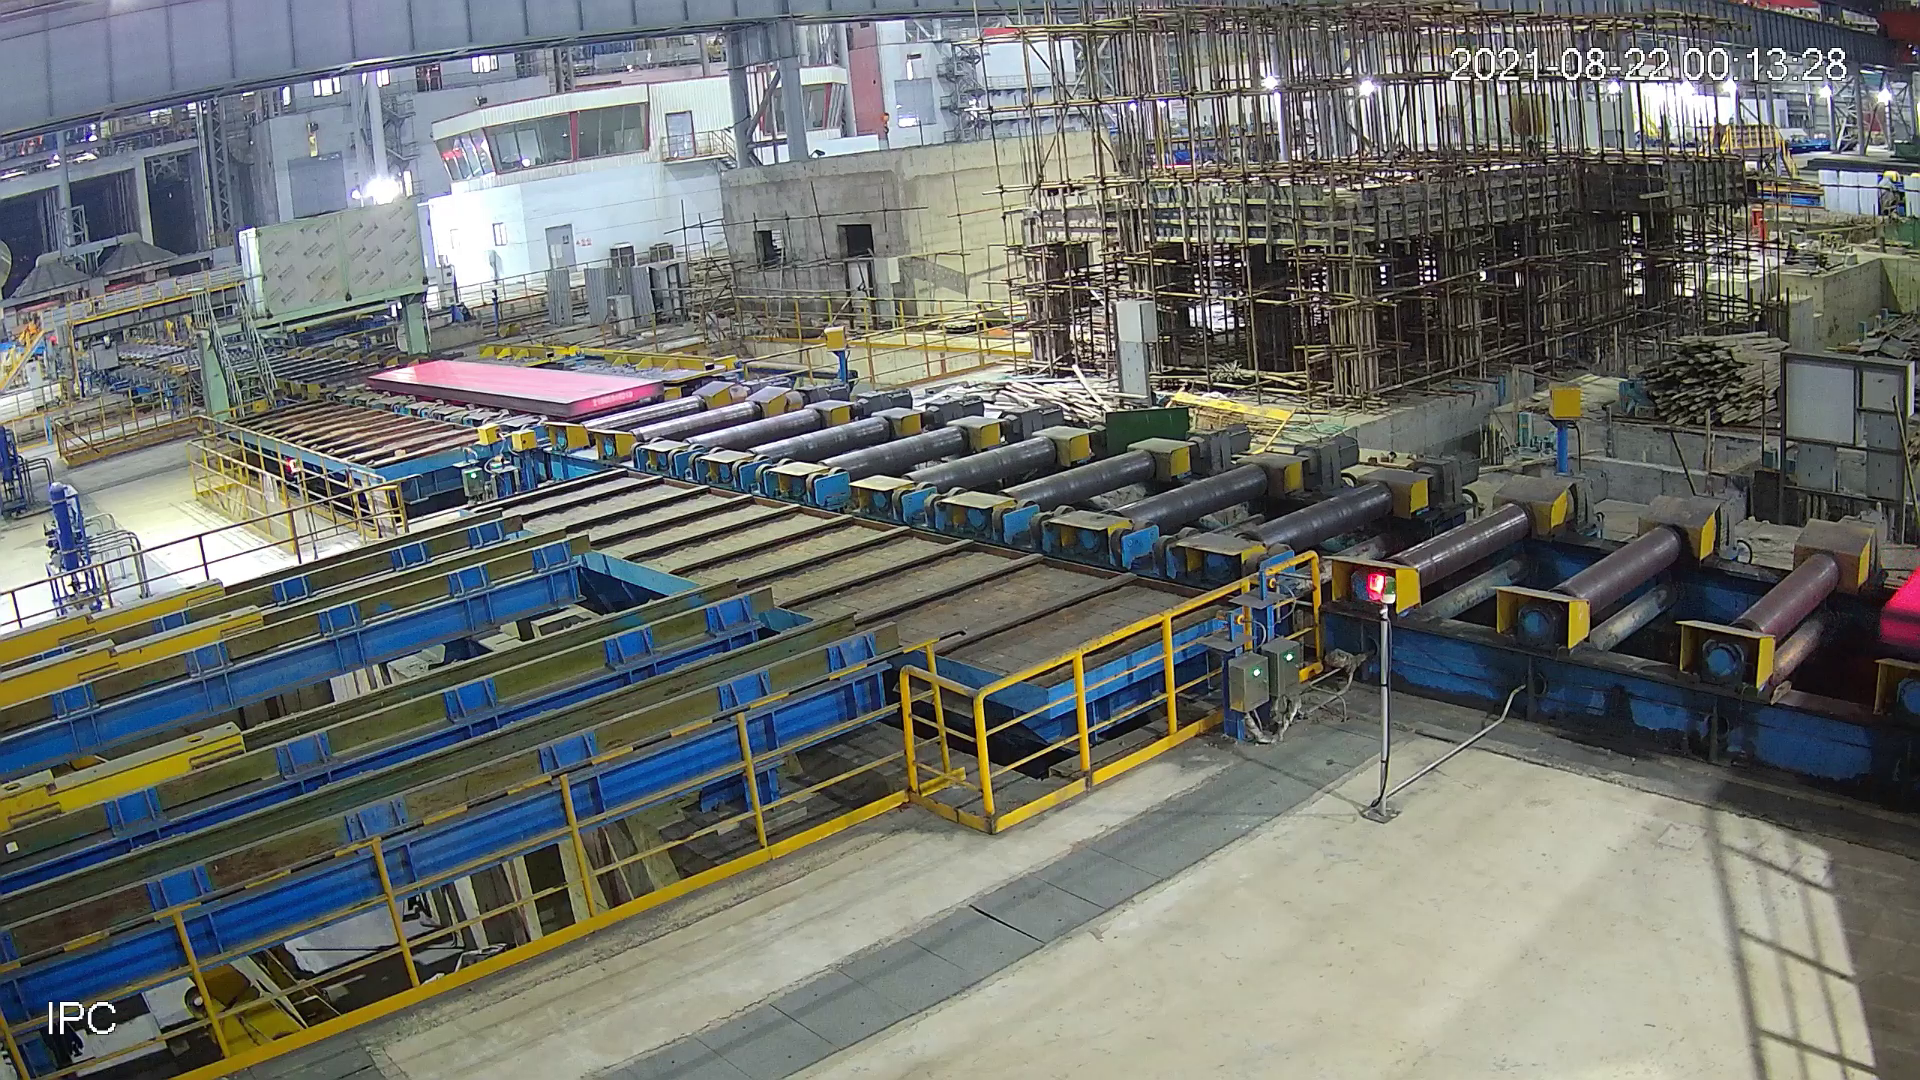crane: (691, 20, 1183, 411)
slab: (512, 369, 1244, 665), (1516, 189, 1683, 247)
